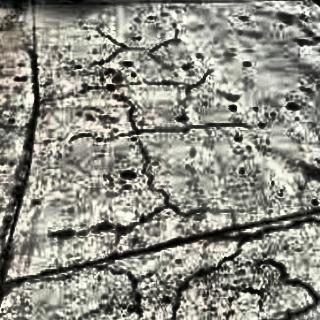alligator-crack: (0, 112, 320, 320), (21, 0, 218, 118)
